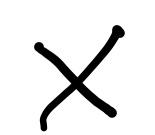mult: (34, 25, 125, 131)
